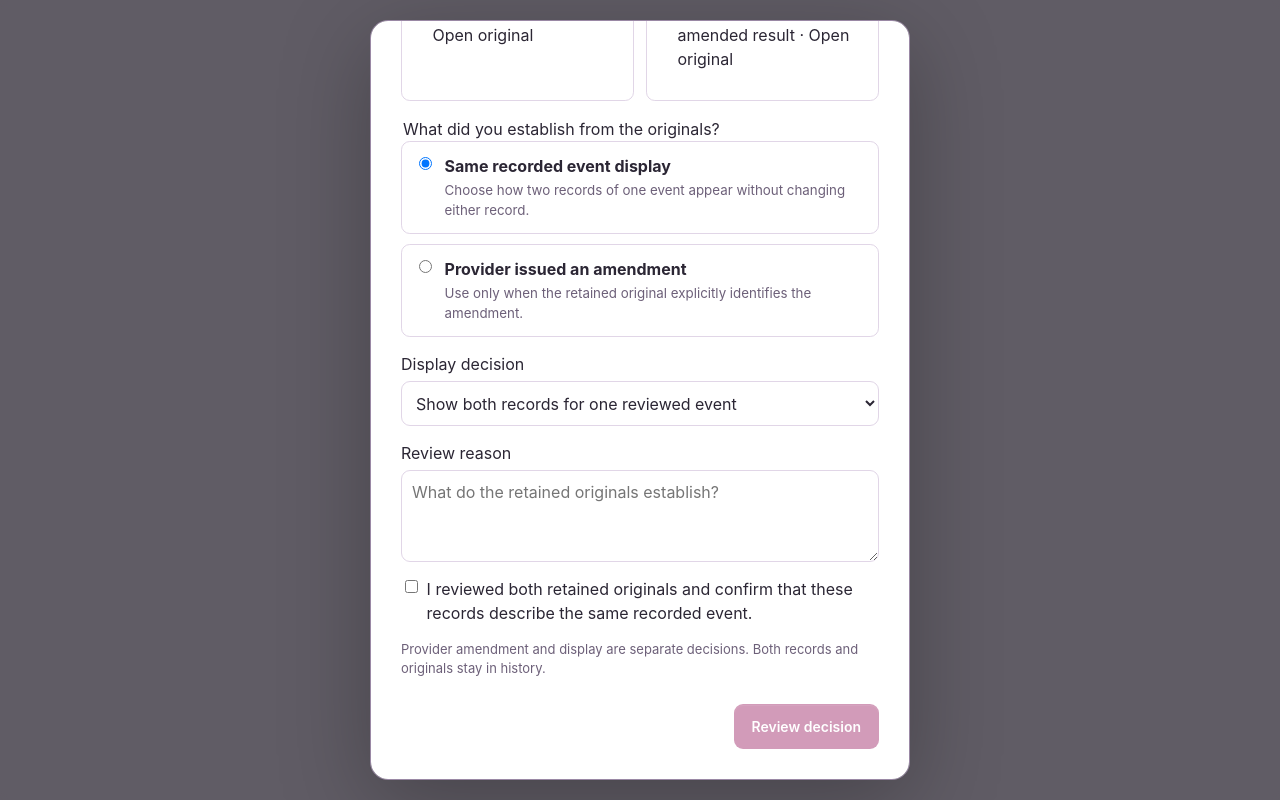
it: ClinicalRelationshipDialog › marks a relationship as needing review without claiming same-event equivalence
(page scrolled)
Step 1. Select "Mark as needing review" in the dropdown labelled "Display decision" → (640, 404), box [401,381,879,426]
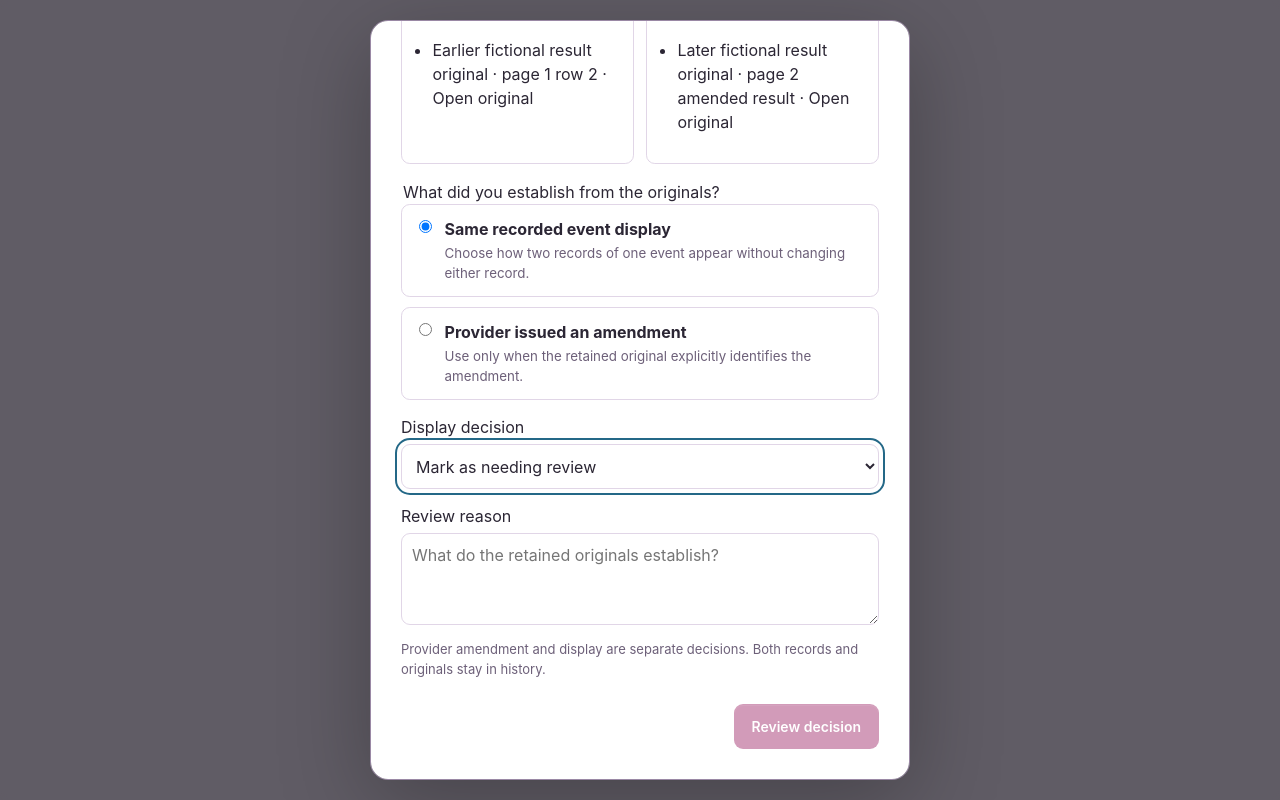
Now the text labelled "confirm that these records describe the same recorded event" is gone
Step 2. Type "The originals do not establish whether these are the same event." into the text box labelled "Review reason" → (640, 579), box [401,533,879,625]
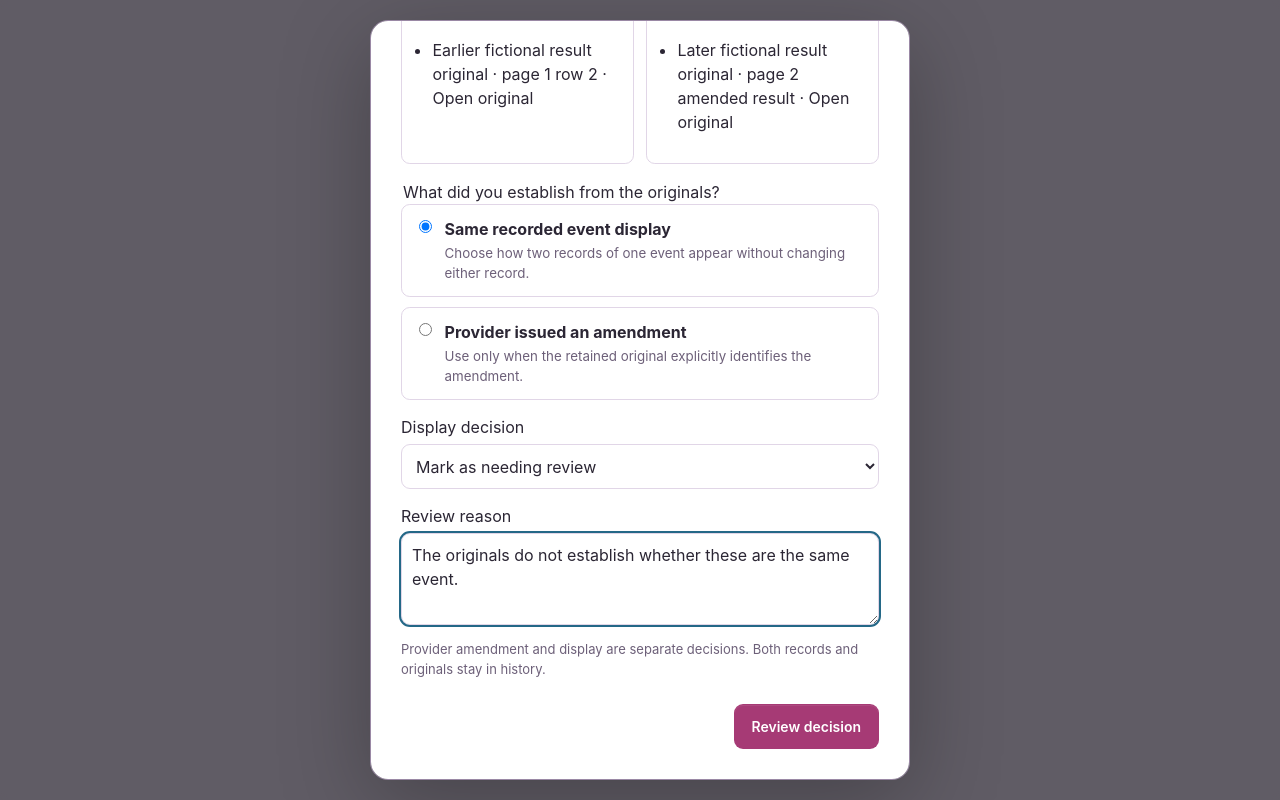
Step 3. Click the button "Review decision" → (806, 727), box [734,704,879,749]
(page scrolled)
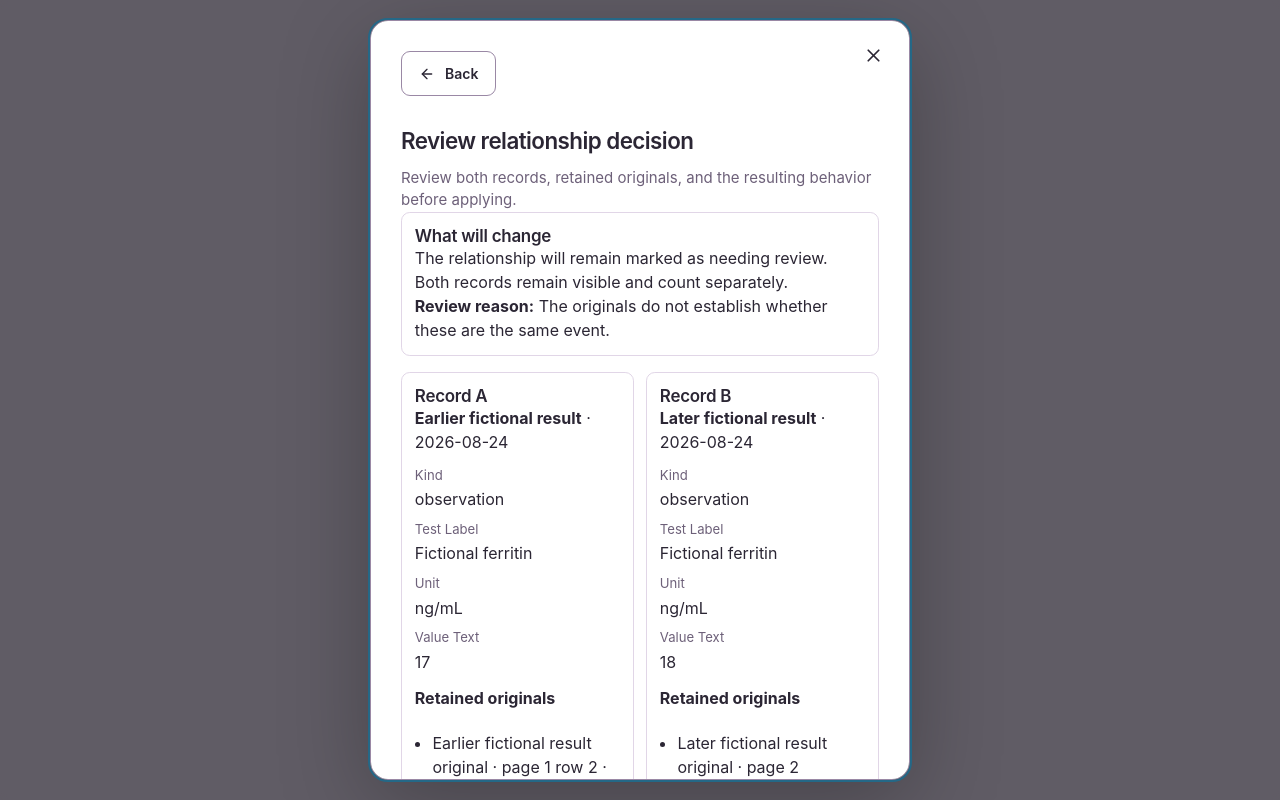
Now the text "Both records remain visible and count separately" is shown, box [415,248,828,292]
